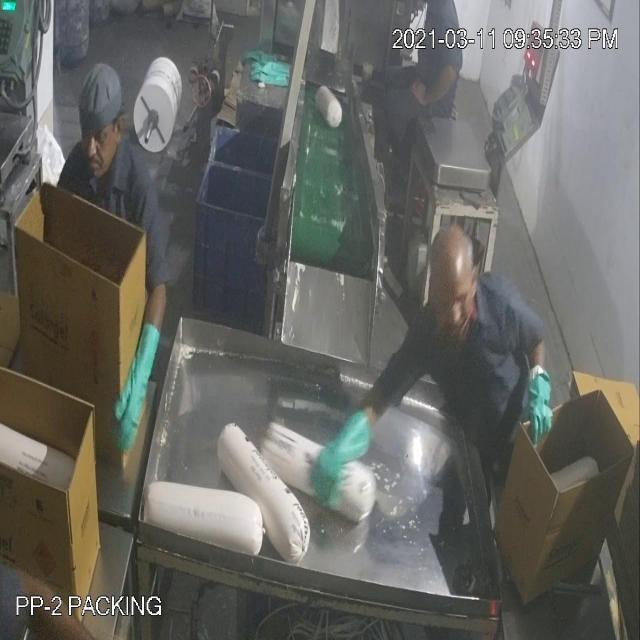No_Gloves: (402, 54, 458, 120)
